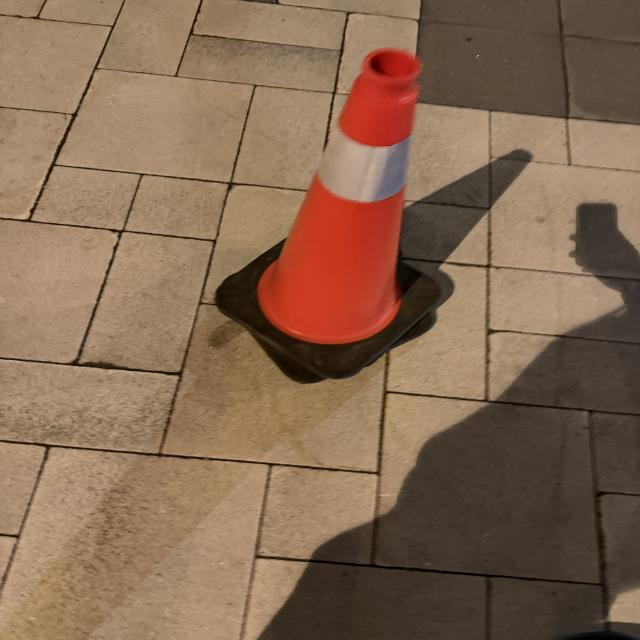Traffic Cone: (212, 48, 444, 379)
